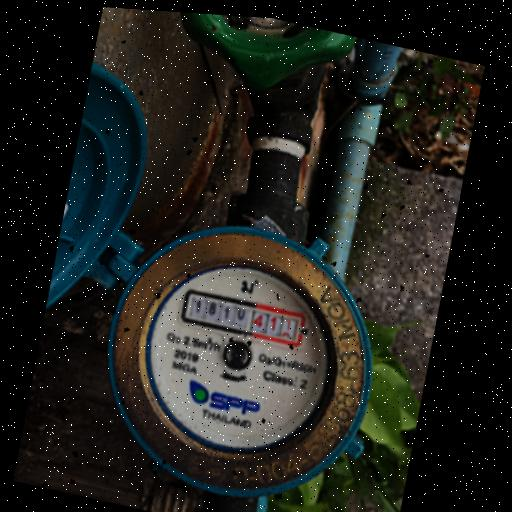0: (233, 307, 249, 329)
1: (265, 315, 282, 337), (190, 297, 206, 319), (219, 303, 235, 325), (280, 318, 296, 340)
4: (250, 311, 267, 333)
8: (204, 301, 220, 322)
border_water_meter_number: (179, 287, 307, 349)
